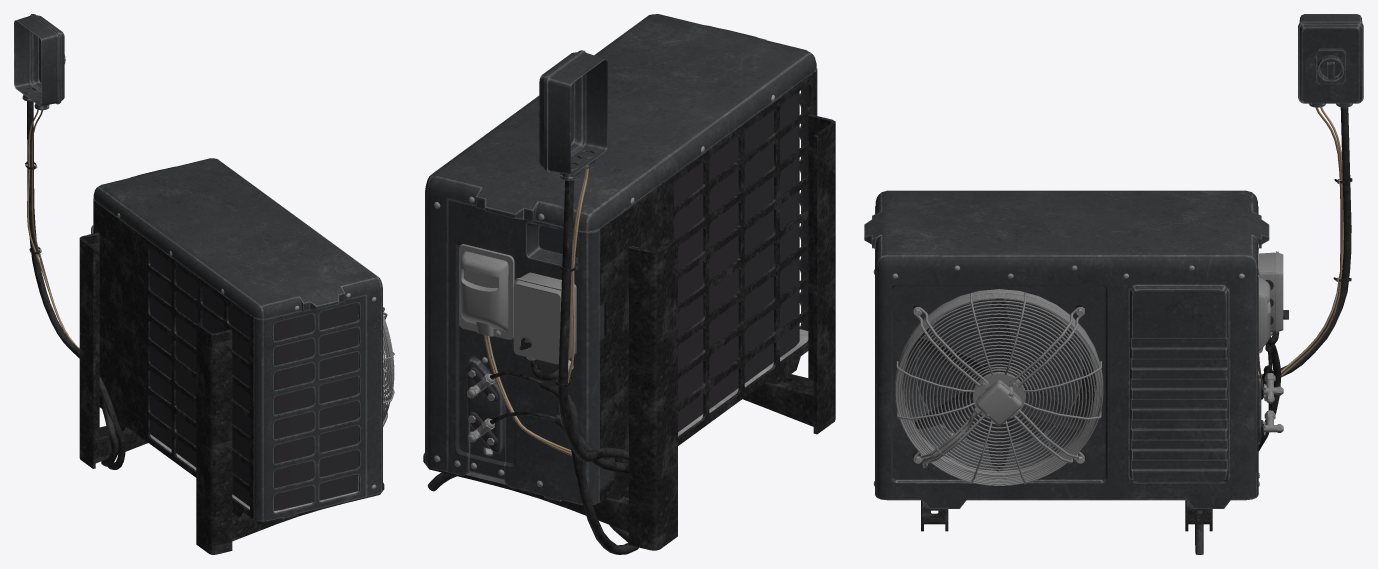
Rendered from condensadora_.glb.
3 views of the same model, side by side, from view 1: azimuth 30°, elevation 25°; view 2: azimuth 150°, elevation 25°; view 3: azimuth 270°, elevation 25° (orthographic). The views are drawn at different scales.
Visible parts, largest first — view 1: Object_2, Object_3, Object_4; view 2: Object_2, Object_3, Object_4; view 3: Object_2, Object_3, Object_4.
Part boxes in pixels (<box>): Object_2: <box>93,158,383,521</box>; Object_3: <box>79,232,394,554</box>; Object_4: <box>14,14,387,489</box>; Object_2: <box>425,14,817,504</box>; Object_3: <box>423,91,835,550</box>; Object_4: <box>427,50,774,554</box>; Object_2: <box>864,190,1269,508</box>; Object_3: <box>895,292,1212,531</box>; Object_4: <box>873,14,1363,554</box>.
Size of the model in its own units: 54.01 by 106 by 105.
1 material, 1 textured.
